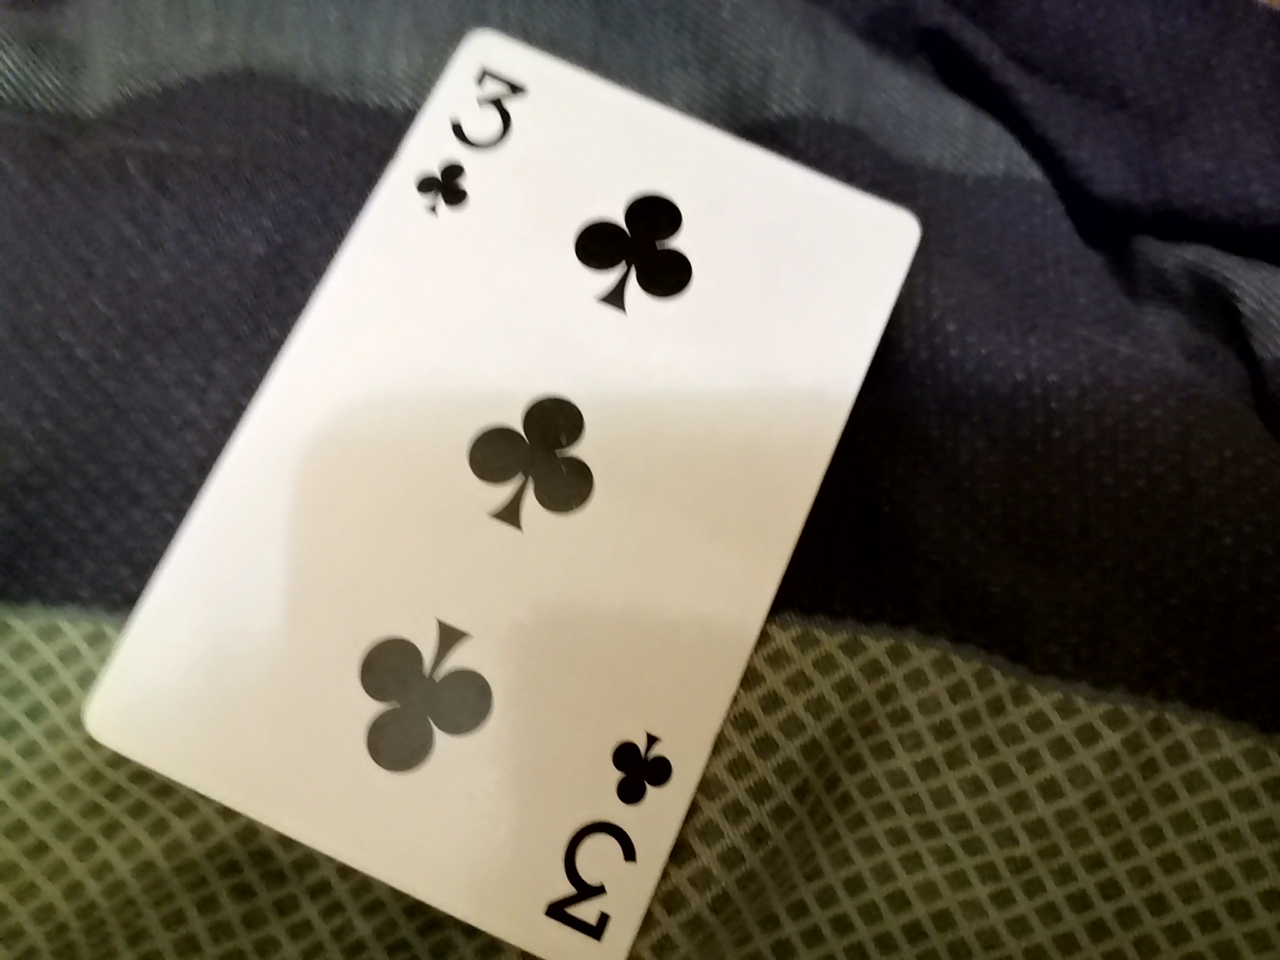mh 3: (71, 29, 932, 944)
